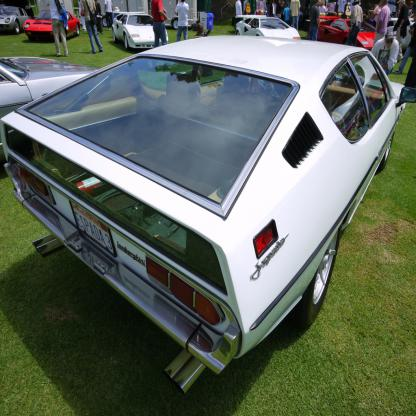Car: (21, 36, 401, 385), (0, 57, 112, 161), (308, 16, 376, 58), (112, 12, 168, 50), (22, 9, 80, 41), (235, 15, 301, 39), (0, 3, 29, 35), (386, 18, 415, 50)
